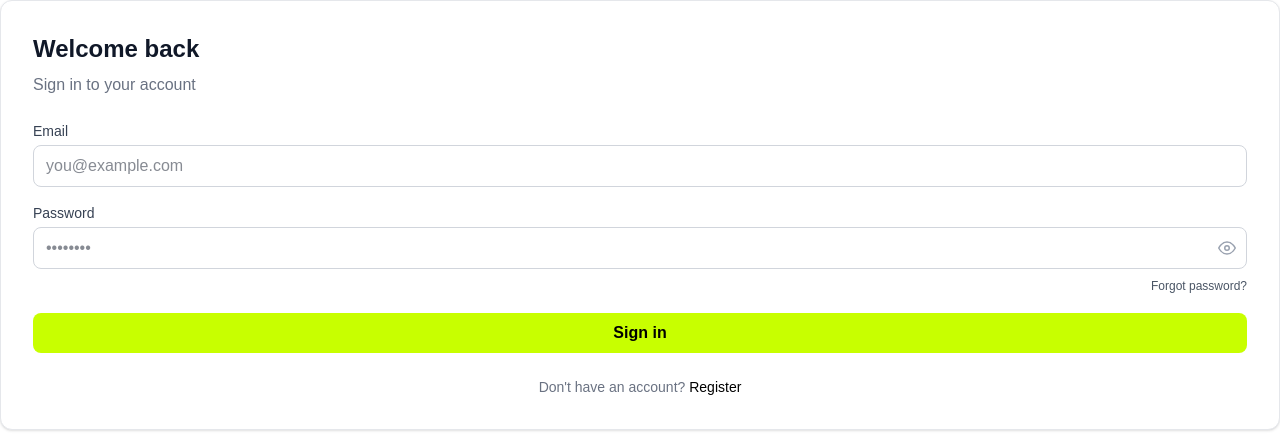
Test case: LoginForm › disables button during loading
Type "john@example.com" into the field with placeholder "you@example.com".
click(640, 166); type("john@example.com")  # box [33,145,1247,187]
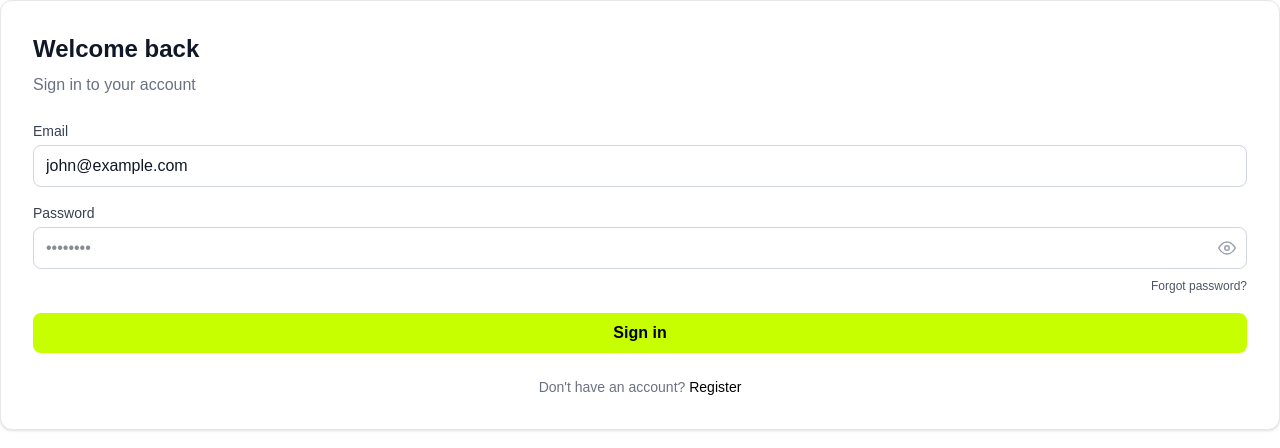
Type "12345678" into the password field with placeholder "••••••••".
click(640, 248); type("12345678")  # box [33,227,1247,269]
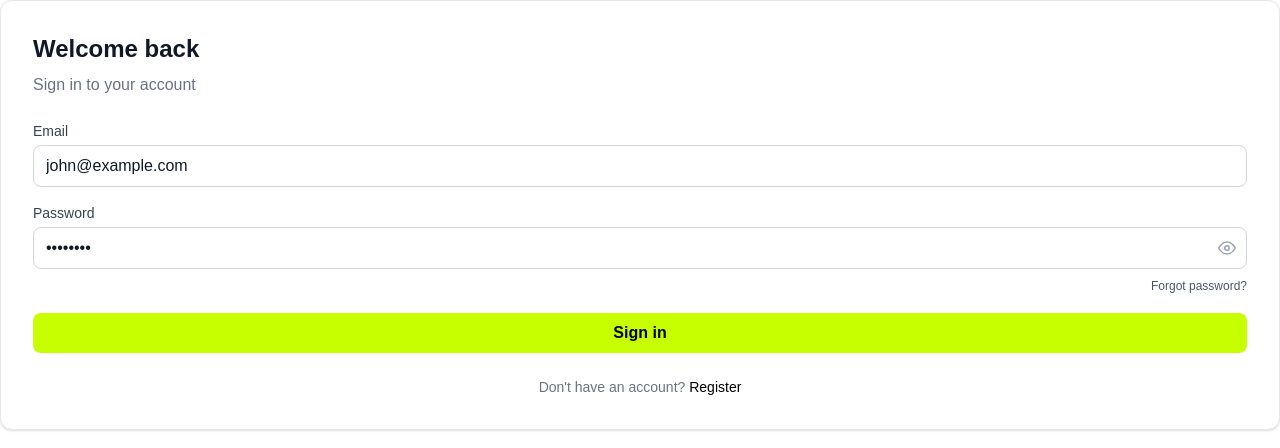
Click the button "Sign in".
click(640, 333)  # box [33,313,1247,353]
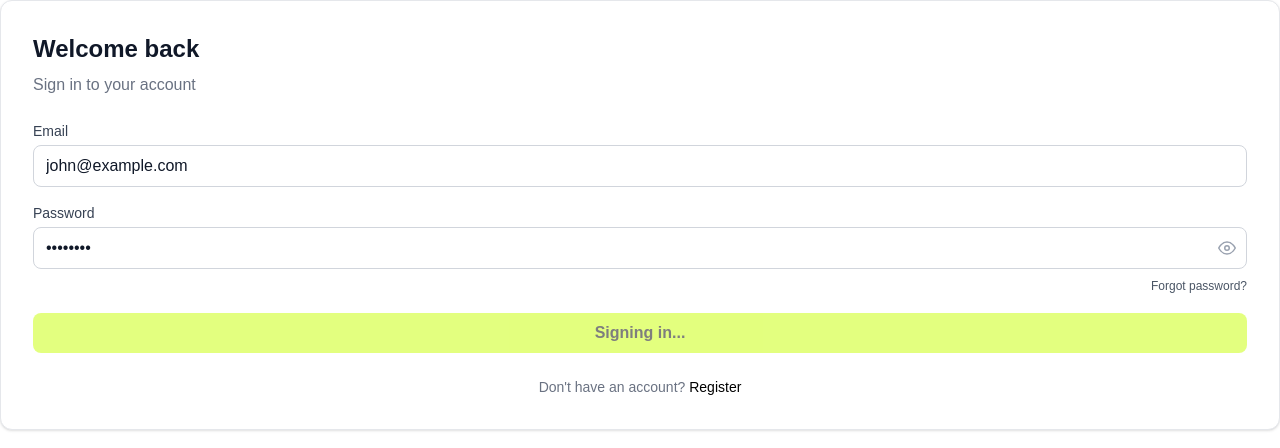
Expected: the button "Signing in..." is disabled, [33,313,1247,353]
